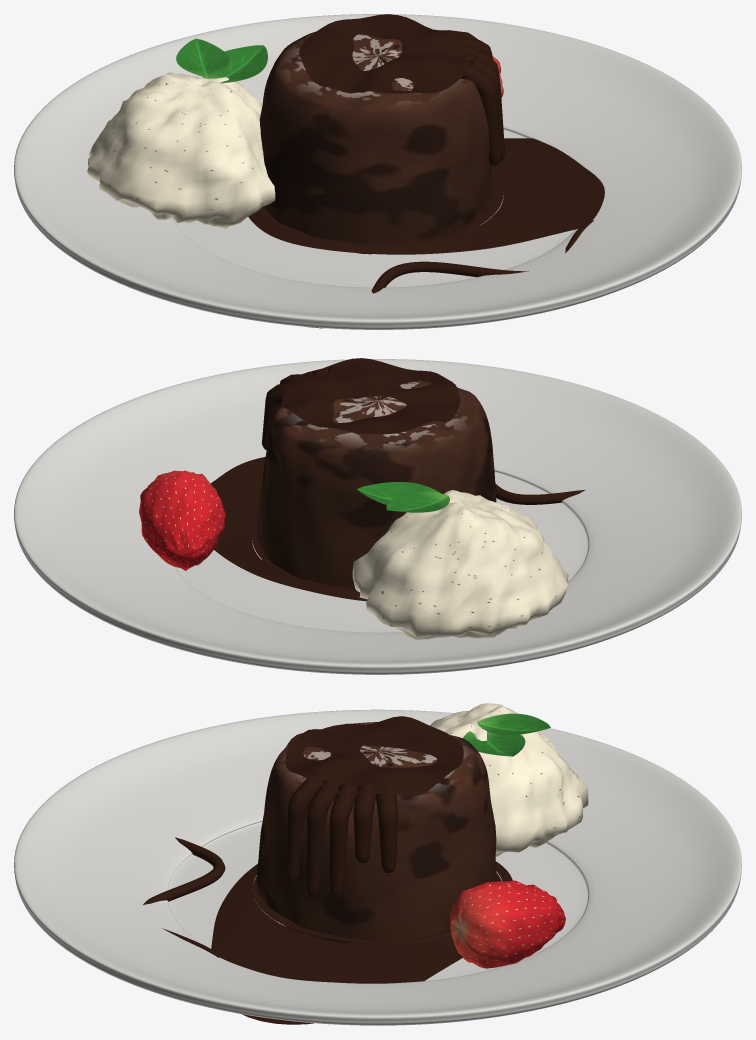
File: petit-gateau.glb
3 views of the same model, one above another, from view 1: azimuth 30°, elevation 25°; view 2: azimuth 150°, elevation 25°; view 3: azimuth 270°, elevation 25° (orthographic).
Parts seen in each view (by area): view 1: petit-gateau; view 2: petit-gateau; view 3: petit-gateau.
Part boxes in pixels (x1,y1,x2,y2): petit-gateau: (14, 14, 741, 329); petit-gateau: (14, 358, 741, 674); petit-gateau: (14, 703, 741, 1025).
Size of the model in its own units: 0.2204 by 0.0591 by 0.2204.
7 materials, 4 textured.
